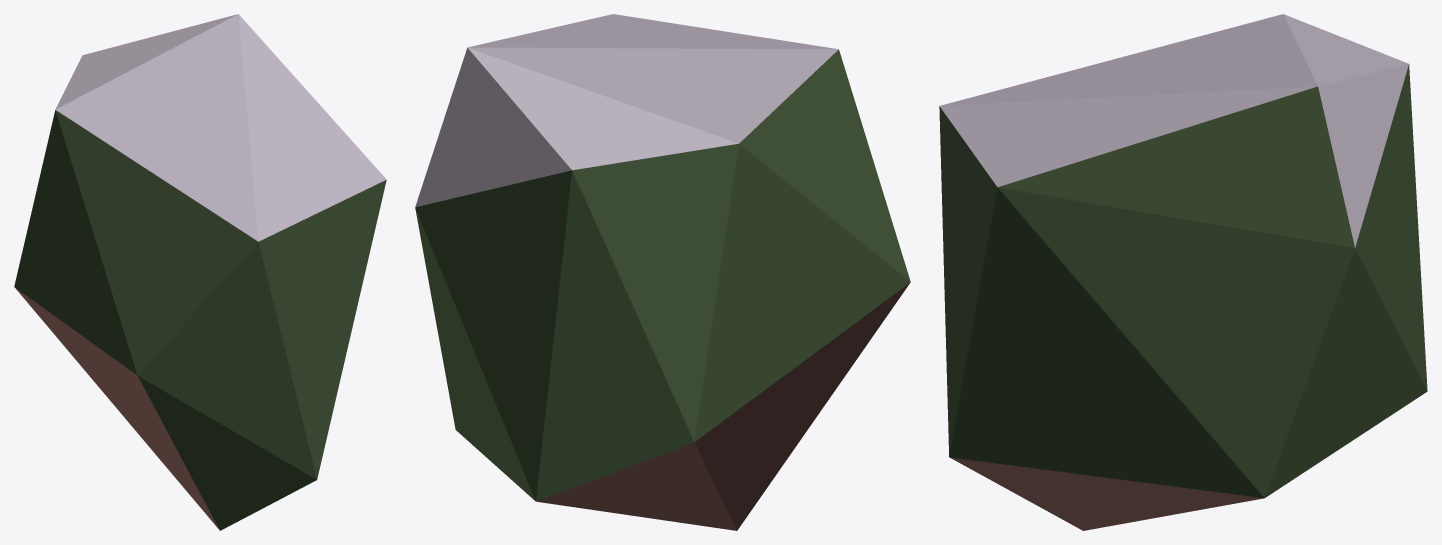
Rendered from Willow_Snow_4.lod4.glb.
3 renders of one model, left to right at view 1: azimuth 30°, elevation 25°; view 2: azimuth 150°, elevation 25°; view 3: azimuth 270°, elevation 25°, orthographic. The views are drawn at different scales.
Visible parts, largest first — view 1: Willow_Snow_4; view 2: Willow_Snow_4; view 3: Willow_Snow_4.
Part boxes in pixels (x1=…): Willow_Snow_4: x1=14, y1=14, x2=386, y2=530; Willow_Snow_4: x1=415, y1=14, x2=910, y2=530; Willow_Snow_4: x1=939, y1=14, x2=1427, y2=530.
Size of the model in its own units: 2.24 by 3.53 by 3.04.
